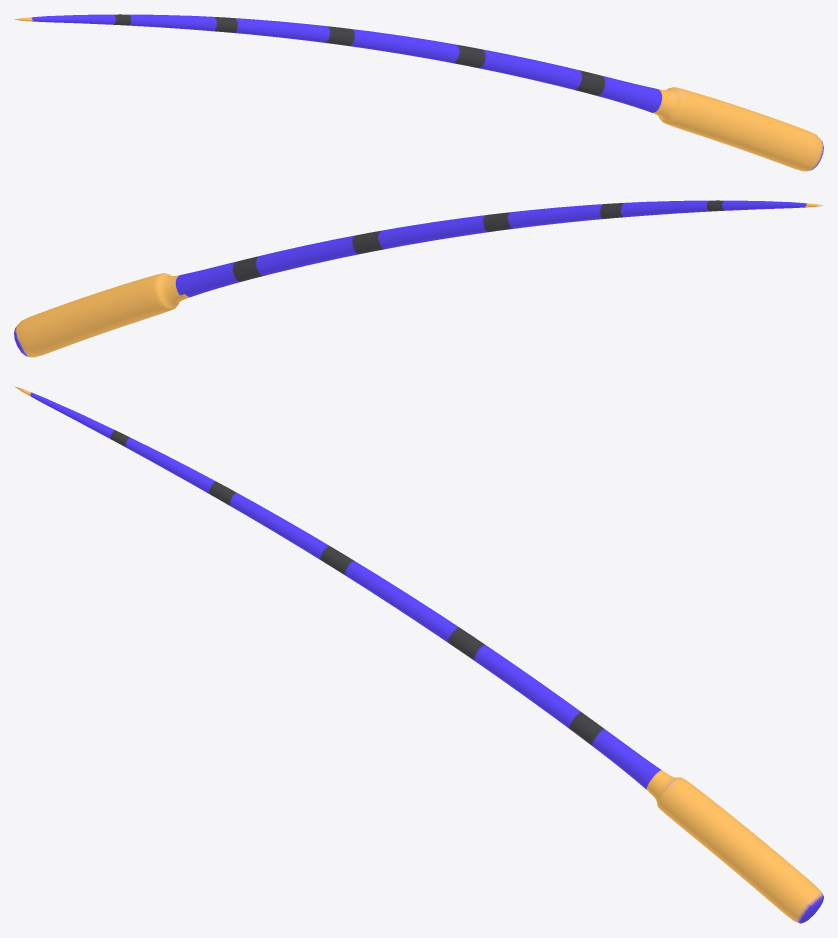
The model's file is fishing-rod.glb.
The picture shows the model from 3 angles, top to bottom: view 1: azimuth 30°, elevation 25°; view 2: azimuth 150°, elevation 25°; view 3: azimuth 330°, elevation 25°; orthographic projection.
Visible parts, largest first — view 1: Cube; view 2: Cube; view 3: Cube.
Boxes of the visible parts, bbox=[...] form: Cube: bbox=[15, 14, 823, 171]; Cube: bbox=[14, 200, 822, 357]; Cube: bbox=[14, 386, 823, 923].
Bounding box in the file's own units: 1.43 × 0.5813 × 0.0631.
Materials: 1 (1 with a texture image).
